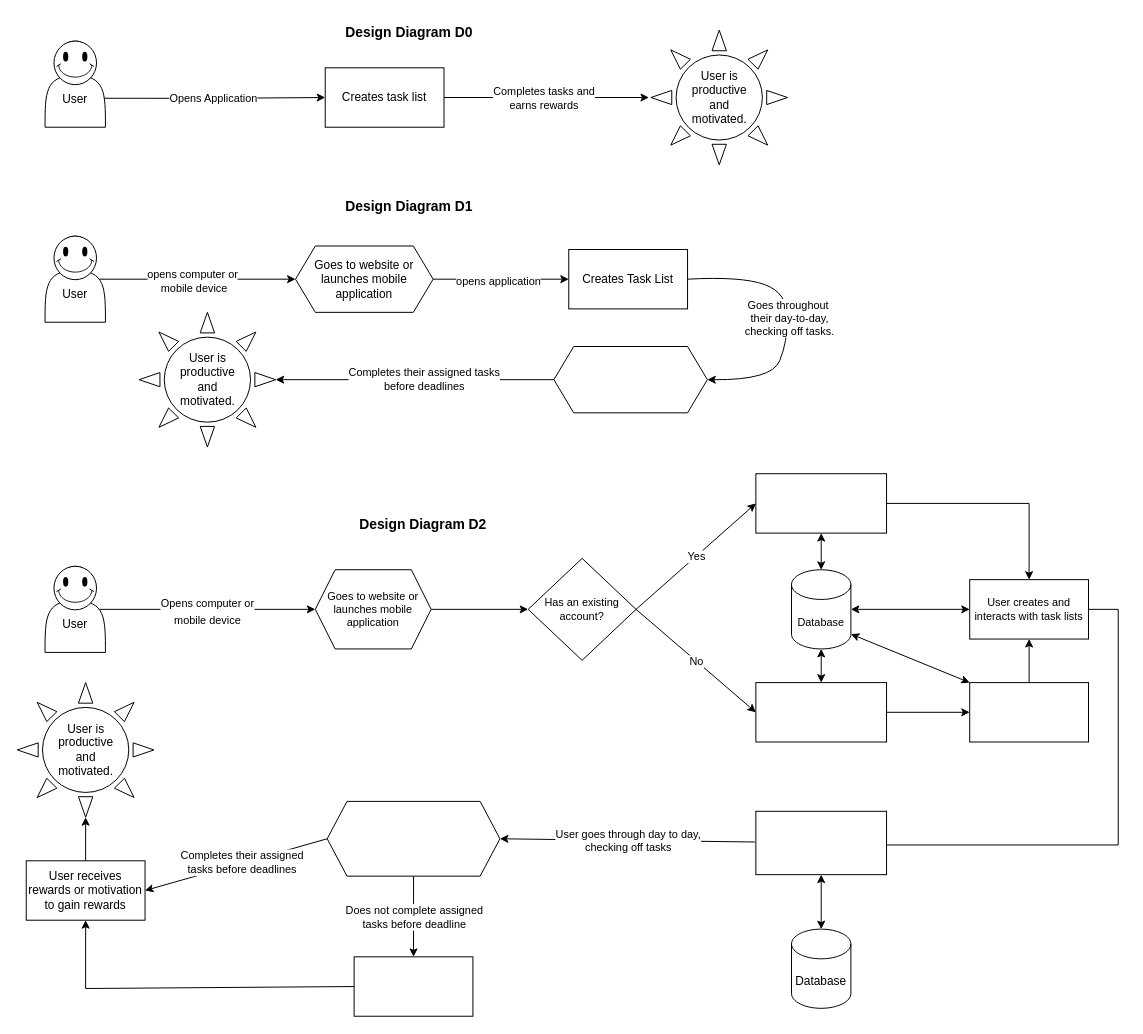
The diagram is 1143 pixels wide and 1034 high, and some of its shapes have lost their labels. The shapes that lost their labels are listed below. From the top down, each one's centre as x and y in pixels, then its label:
At [630,379]: "Gets notified and receives rewards based on tasks".
At [821,503]: "Logs into Account and Existing Lists are Loaded".
At [821,712]: "Creates account".
At [1029,712]: "User chooses notification and color settings".
At [413,838]: "Gets notified about potential rewards/repercussions based on tasks".
At [821,842]: "User chooses rewards experience".
At [413,986]: "App deducts rewards, encourages user to do better".
